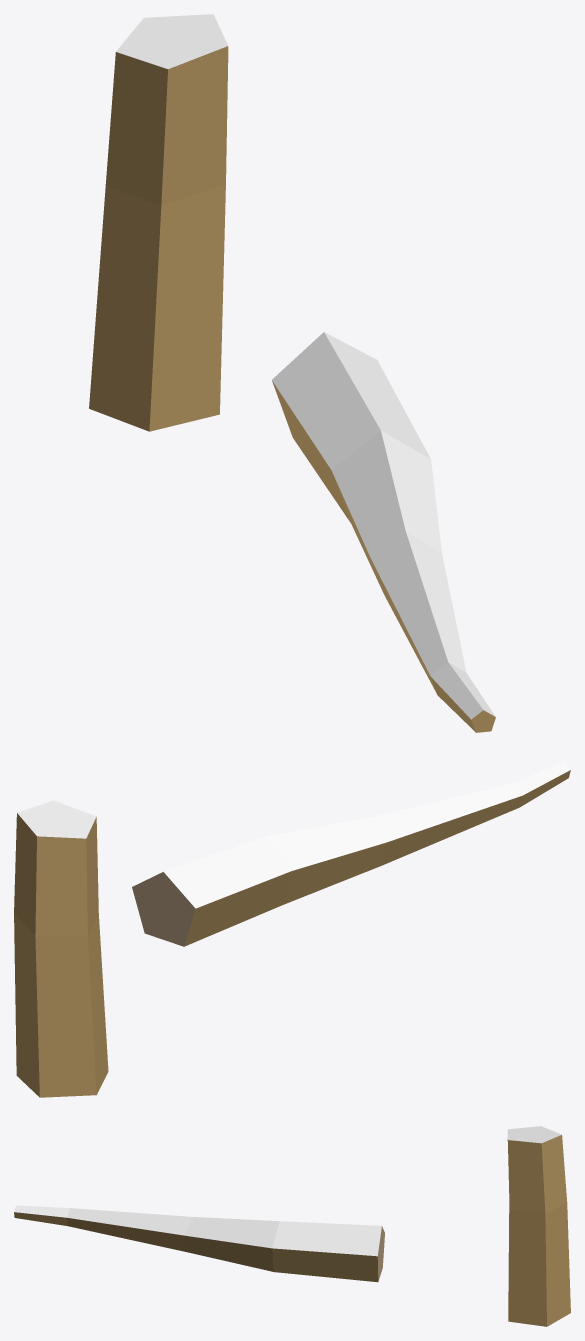
Rendered from Simple_Tree_NoLeaves_crk_m_Snow_01.fbx.
3 views of the same model, one above another, from view 1: azimuth 30°, elevation 25°; view 2: azimuth 150°, elevation 25°; view 3: azimuth 270°, elevation 25° (orthographic). The views are drawn at different scales.
Parts seen in each view (by area): view 1: Simple_Tree_NoLeaves_crk_m_Snow_01; view 2: Simple_Tree_NoLeaves_crk_m_Snow_01; view 3: Simple_Tree_NoLeaves_crk_m_Snow_01.
Boxes of the visible parts, x1,y1,x2,y2 form: Simple_Tree_NoLeaves_crk_m_Snow_01: [89, 14, 495, 732]; Simple_Tree_NoLeaves_crk_m_Snow_01: [14, 761, 570, 1097]; Simple_Tree_NoLeaves_crk_m_Snow_01: [14, 1126, 570, 1326].
Size of the model in its own units: 133 by 177 by 483.
